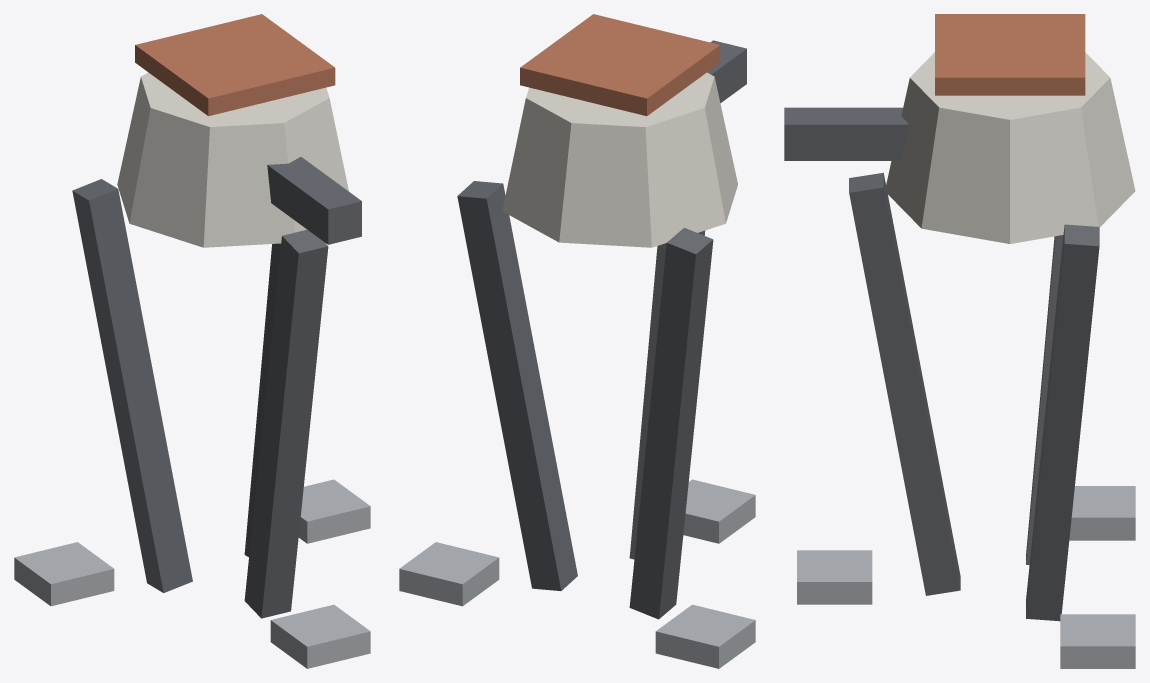
The model's file is SENTINEL4.glb.
The picture shows the model from 3 angles, left to right: view 1: azimuth 30°, elevation 25°; view 2: azimuth 150°, elevation 25°; view 3: azimuth 270°, elevation 25°; orthographic projection. The views are drawn at different scales.
Parts seen in each view (by area): view 1: SENTINEL4; view 2: SENTINEL4; view 3: SENTINEL4.
Part boxes in pixels (x1,y1,x2,y2): SENTINEL4: (14,14,370,668); SENTINEL4: (399,14,755,668); SENTINEL4: (784,14,1135,668).
Bounding box in the file's own units: 1.51 × 2.39 × 1.4.
